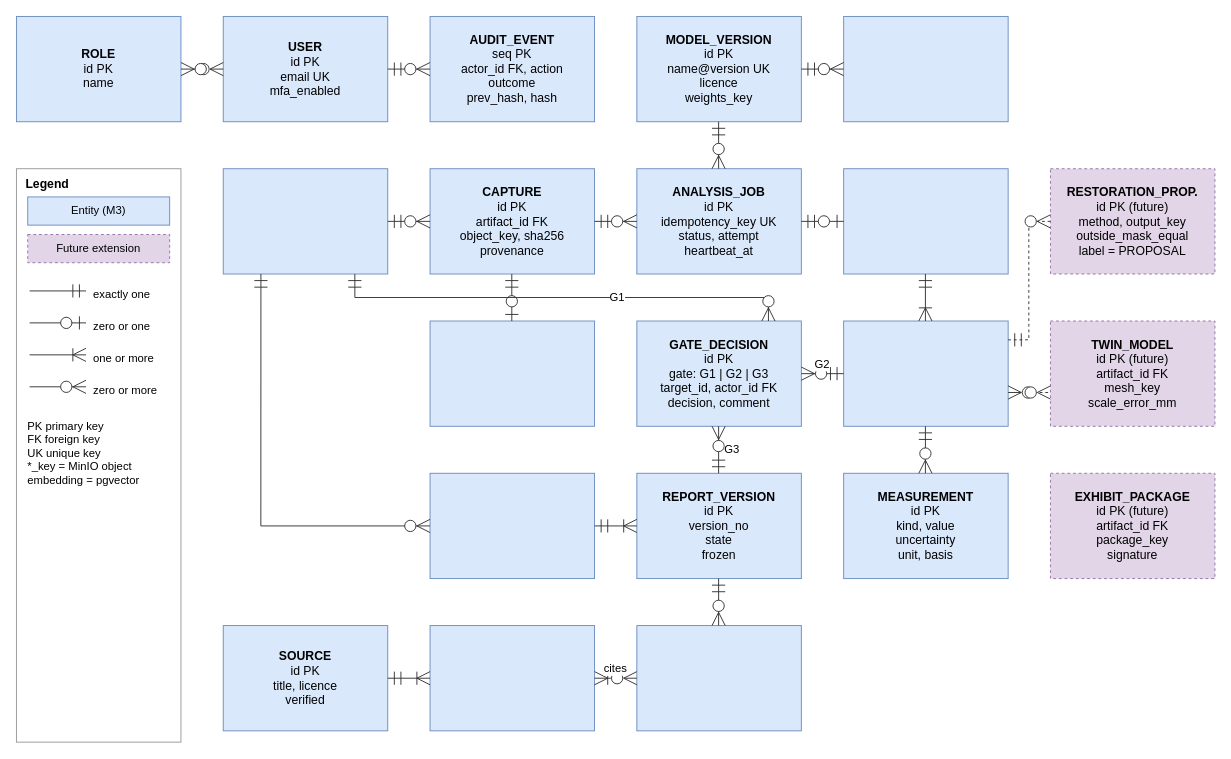
Image size: 1231x759. Some labels were removed from this diagram. The centre of each missing label's shape, as x and y in pixels:
"ANNOTATION id PK job_id FK capture_id FK current_version" belongs at [925,221].
"ANNOTATION_VERSION id PK version_no, parent mask_key, sha256 frozen" belongs at [925,373].
"ARTIFACT id PK accession_no UK object type, material licence" belongs at [305,221].
"CLAIM id PK claim_type text support_status" belongs at [718,678].
"EVALUATION_RUN id PK model_version_id FK split_manifest_hash metrics" belongs at [925,69].
"QUALITY_ASSESSMENT id PK capture_id FK blur, exposure verdict" belongs at [512,373].
"REPORT id PK artifact_id FK current_version" belongs at [512,525].
"SOURCE_CHUNK id PK source_id FK, page text embedding (vector)" belongs at [512,678].
